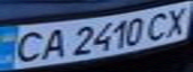0: (124, 13, 151, 46)
1: (109, 17, 130, 50)
2: (69, 23, 97, 57)
4: (93, 19, 115, 53)
A: (36, 25, 69, 61)
C: (3, 28, 51, 64), (142, 10, 178, 42)
X: (157, 2, 193, 37)
